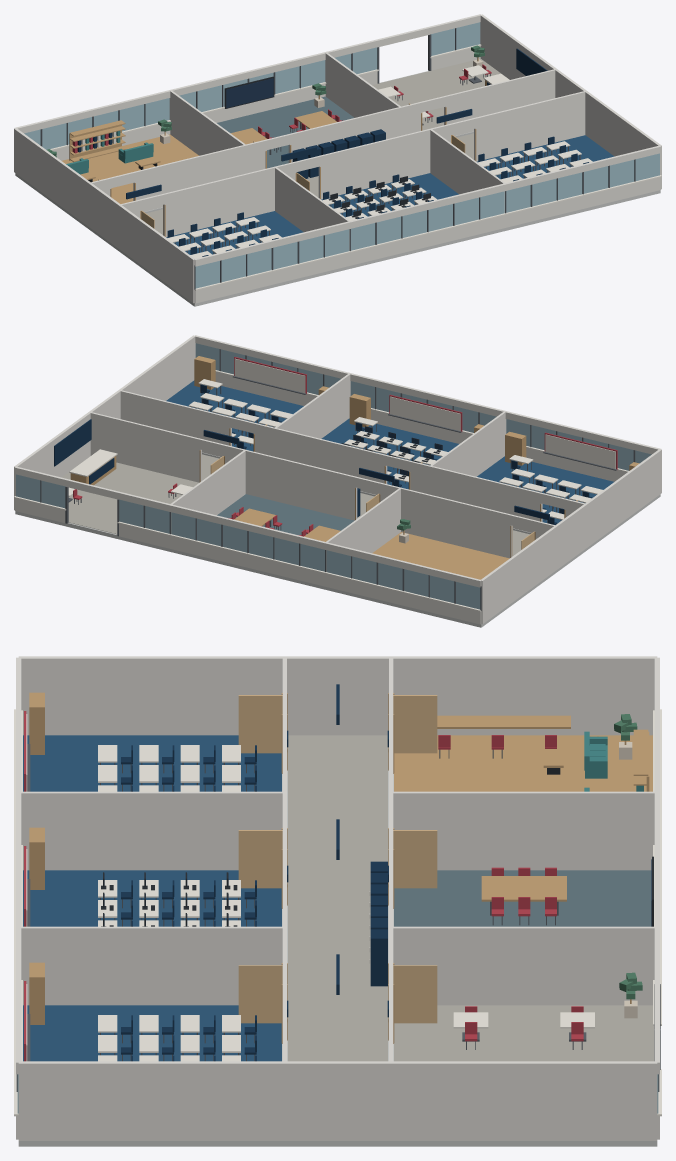
The model's file is BCH_Floor.obj.
3 renders of one model, top to bottom at view 1: azimuth 30°, elevation 25°; view 2: azimuth 150°, elevation 25°; view 3: azimuth 270°, elevation 25°, orthographic. The views are drawn at different scales.
Visible parts, largest first — view 1: OuterWalls_End_wall_8, OuterWalls_End_wall_9, Partitions_Corridor_wall_207, Partitions_Corridor_wall_189, Partitions_Corridor_wall_198, Partitions_Corridor_wall_216, Partitions_Corridor_wall_234, Floor_Room_floor_7, Floor_Room_floor_6, Partitions_Partition_186, Partitions_Partition_185, Partitions_Partition_183 (+41 smaller); view 2: OuterWalls_End_wall_8, Partitions_Corridor_wall_225, Partitions_Corridor_wall_216, Partitions_Corridor_wall_234, OuterWalls_End_wall_9, Floor_Room_floor_7, Partitions_Corridor_wall_198, Partitions_Corridor_wall_189, Partitions_Corridor_wall_207, Floor_Room_floor_5, Partitions_Partition_185, Partitions_Partition_186 (+36 smaller); view 3: OuterWalls_End_wall_9, OuterWalls_End_wall_8, Floor_Corridor_floor_1, Partitions_Partition_183, Partitions_Partition_185, Partitions_Partition_186, Partitions_Partition_184, Floor_Room_floor_7, Floor_Room_floor_6, Floor_Room_floor_5, Floor_Room_floor_2, Floor_Room_floor_4 (+15 smaller).
Boxes of the visible parts, bbox=[...] form: OuterWalls_End_wall_8: bbox=[14, 128, 195, 303]; OuterWalls_End_wall_9: bbox=[480, 14, 661, 188]; Partitions_Corridor_wall_207: bbox=[474, 91, 585, 161]; Partitions_Corridor_wall_189: bbox=[163, 166, 274, 237]; Partitions_Corridor_wall_198: bbox=[318, 129, 430, 199]; Partitions_Corridor_wall_216: bbox=[133, 145, 245, 211]; Partitions_Corridor_wall_234: bbox=[444, 69, 555, 135]; Floor_Room_floor_7: bbox=[372, 58, 500, 130]; Floor_Room_floor_6: bbox=[217, 96, 354, 168]; Partitions_Partition_186: bbox=[430, 129, 505, 212]; Partitions_Partition_185: bbox=[325, 52, 400, 117]; Partitions_Partition_183: bbox=[169, 90, 245, 155]; OuterWalls_End_wall_8: bbox=[480, 449, 661, 624]; Partitions_Corridor_wall_225: bbox=[245, 450, 357, 520]; Partitions_Corridor_wall_216: bbox=[401, 487, 512, 558]; Partitions_Corridor_wall_234: bbox=[90, 412, 201, 482]; OuterWalls_End_wall_9: bbox=[14, 335, 195, 509]; Floor_Room_floor_7: bbox=[61, 462, 198, 534]; Partitions_Corridor_wall_198: bbox=[274, 428, 387, 494]; Partitions_Corridor_wall_189: bbox=[430, 466, 542, 532]; Partitions_Corridor_wall_207: bbox=[120, 390, 231, 456]; Floor_Room_floor_5: bbox=[372, 532, 509, 579]; Partitions_Partition_185: bbox=[170, 450, 245, 533]; Partitions_Partition_186: bbox=[275, 373, 350, 438]; OuterWalls_End_wall_9: bbox=[18, 1061, 657, 1140]; OuterWalls_End_wall_8: bbox=[18, 656, 657, 735]; Floor_Corridor_floor_1: bbox=[287, 735, 388, 1061]; Partitions_Partition_183: bbox=[391, 791, 656, 870]; Partitions_Partition_185: bbox=[391, 926, 655, 1005]; Partitions_Partition_186: bbox=[19, 926, 284, 1005]; Partitions_Partition_184: bbox=[18, 791, 284, 870]; Floor_Room_floor_7: bbox=[394, 1005, 654, 1061]; Floor_Room_floor_6: bbox=[394, 870, 651, 926]; Floor_Room_floor_5: bbox=[394, 735, 652, 791]; Floor_Room_floor_2: bbox=[23, 735, 281, 791]; Floor_Room_floor_4: bbox=[23, 1005, 281, 1061].
Size of the model in its own units: 36.2 by 3.48 by 24.34.
